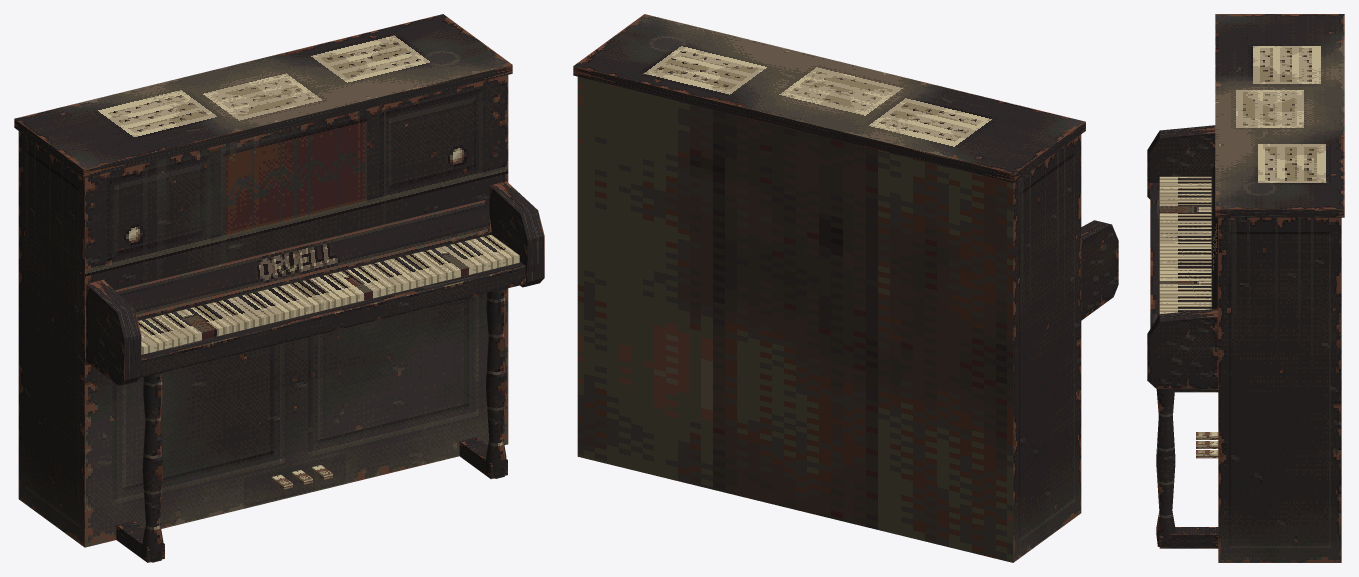
File: piano_upright.glb
3 renders of one model, left to right at view 1: azimuth 30°, elevation 25°; view 2: azimuth 150°, elevation 25°; view 3: azimuth 270°, elevation 25°, orthographic. The views are drawn at different scales.
Visible parts, largest first — view 1: piano_upright; view 2: piano_upright; view 3: piano_upright.
Boxes of the visible parts, x1,y1,x2,y2 form: piano_upright: [14, 14, 544, 562]; piano_upright: [573, 14, 1118, 562]; piano_upright: [1147, 14, 1344, 562].
Size of the model in its own units: 1.5 by 1.27 by 0.64.
1 material, 1 textured.
